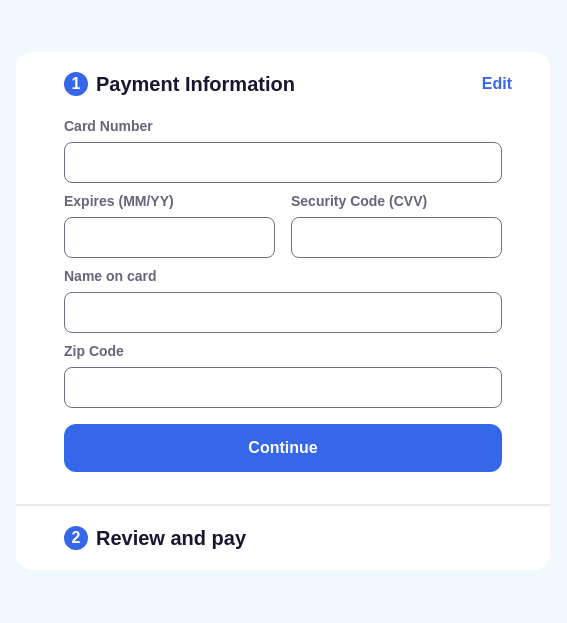
PaymentForm › shows success if card number field is valid
Step 1. Type "1212 1212 1212 1212" into the field labelled "Card Number" → point(283, 162), box [64,142,502,183]
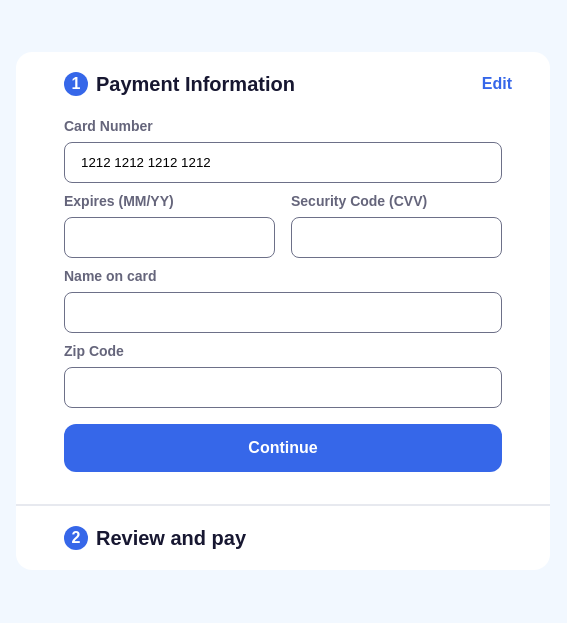
Step 2. Click the button "Continue" → point(283, 448), box [64,424,502,472]
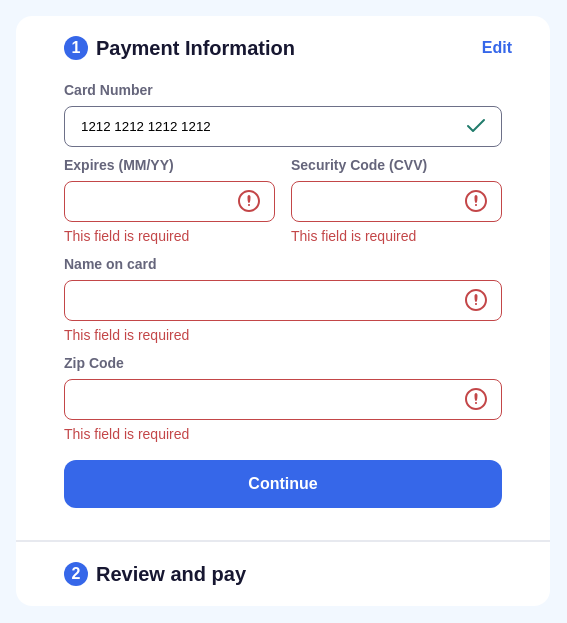
Expected: the icon with test id "success-icon" is shown, [464,114,488,145]
